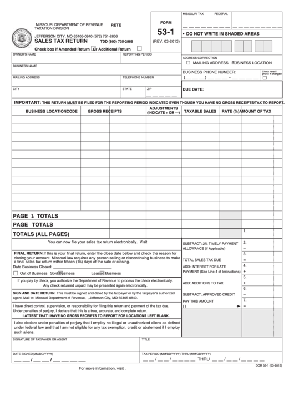checkbox: (89, 44, 97, 51), (136, 44, 143, 51), (262, 73, 268, 81), (185, 59, 192, 65), (231, 59, 238, 65), (12, 269, 18, 276), (57, 269, 63, 276), (99, 269, 105, 275)
textbox: (138, 335, 284, 353), (9, 62, 183, 77), (10, 335, 141, 353), (137, 349, 284, 365), (179, 78, 284, 99), (10, 350, 141, 364), (10, 50, 123, 65), (10, 73, 123, 88), (10, 84, 123, 99), (179, 68, 263, 82), (230, 10, 283, 30), (181, 10, 233, 30), (10, 147, 83, 161), (9, 113, 82, 126), (9, 121, 82, 134), (9, 130, 82, 143), (9, 139, 82, 152), (10, 156, 83, 169), (10, 164, 83, 177), (10, 173, 83, 186), (9, 181, 82, 194), (10, 199, 83, 212), (11, 191, 83, 204), (119, 73, 182, 87), (119, 51, 184, 64), (189, 38, 233, 53), (143, 84, 183, 99), (240, 237, 275, 252), (109, 173, 149, 186), (108, 113, 148, 126), (144, 139, 184, 152), (181, 164, 221, 177), (180, 113, 220, 126), (181, 199, 220, 212), (181, 139, 220, 152), (240, 284, 275, 298), (240, 295, 275, 309), (108, 200, 148, 212), (108, 191, 148, 203), (108, 182, 148, 194), (109, 165, 149, 177), (108, 157, 148, 169), (108, 148, 148, 160), (108, 139, 148, 151), (108, 131, 148, 143), (108, 122, 148, 134), (144, 113, 184, 125), (144, 122, 184, 134), (144, 131, 184, 143), (144, 148, 184, 160), (143, 157, 183, 169), (144, 165, 184, 177), (144, 173, 184, 185), (144, 182, 184, 194), (144, 191, 184, 203), (143, 200, 183, 212), (143, 209, 183, 221), (144, 217, 184, 229), (108, 209, 148, 221), (108, 217, 148, 229), (108, 227, 148, 239), (144, 227, 184, 239), (180, 227, 220, 239), (180, 191, 220, 203), (180, 148, 220, 160), (180, 122, 220, 134), (241, 249, 275, 263), (241, 261, 275, 275), (241, 273, 275, 287), (181, 217, 220, 229), (181, 209, 220, 221), (181, 182, 220, 194), (181, 174, 220, 186), (181, 157, 220, 169), (181, 130, 220, 142), (78, 173, 112, 186), (241, 227, 275, 240), (119, 84, 147, 99), (240, 113, 275, 125), (240, 139, 275, 151), (241, 165, 276, 177), (240, 174, 275, 186), (241, 191, 276, 203), (240, 200, 275, 212), (241, 217, 276, 229), (78, 113, 112, 125), (78, 122, 112, 134), (78, 131, 112, 143), (78, 139, 112, 151), (78, 148, 112, 160), (78, 165, 112, 177), (78, 183, 112, 195), (78, 191, 112, 203), (78, 200, 112, 212), (79, 157, 112, 169), (240, 122, 275, 133), (240, 131, 275, 142), (240, 148, 275, 159), (240, 157, 275, 168), (240, 183, 275, 194), (240, 209, 275, 220), (217, 113, 244, 126), (217, 139, 244, 152), (217, 148, 244, 161), (217, 165, 244, 178), (217, 173, 244, 186), (217, 182, 244, 195), (217, 199, 244, 212), (217, 130, 243, 143), (217, 122, 244, 134), (217, 191, 244, 203), (217, 208, 244, 220), (217, 217, 244, 229), (217, 227, 244, 239), (233, 38, 254, 53), (253, 38, 274, 53), (217, 156, 243, 168), (271, 236, 284, 253), (272, 248, 284, 265), (272, 260, 284, 277), (272, 294, 284, 311), (272, 272, 284, 288), (272, 283, 284, 299), (272, 113, 284, 125), (272, 122, 284, 134), (272, 131, 284, 143), (272, 139, 284, 151), (272, 148, 284, 160), (272, 156, 284, 168), (272, 165, 284, 177), (272, 174, 284, 186), (272, 182, 284, 194), (272, 191, 284, 203), (272, 200, 284, 212), (272, 209, 284, 221), (272, 217, 284, 229), (272, 227, 284, 239)
textline: (53, 265, 113, 270)
